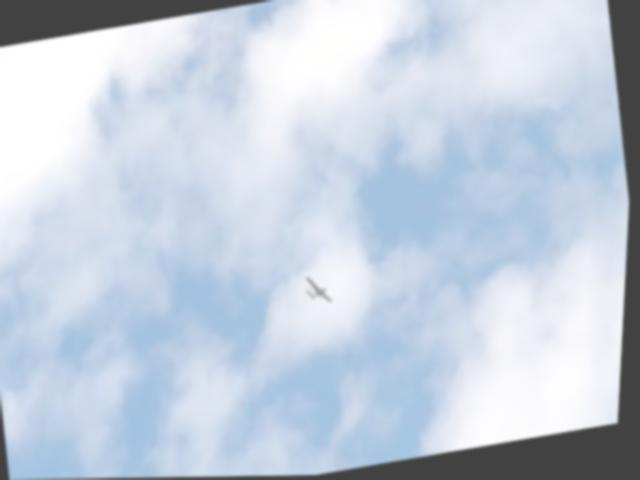uav: (303, 267, 339, 312)
